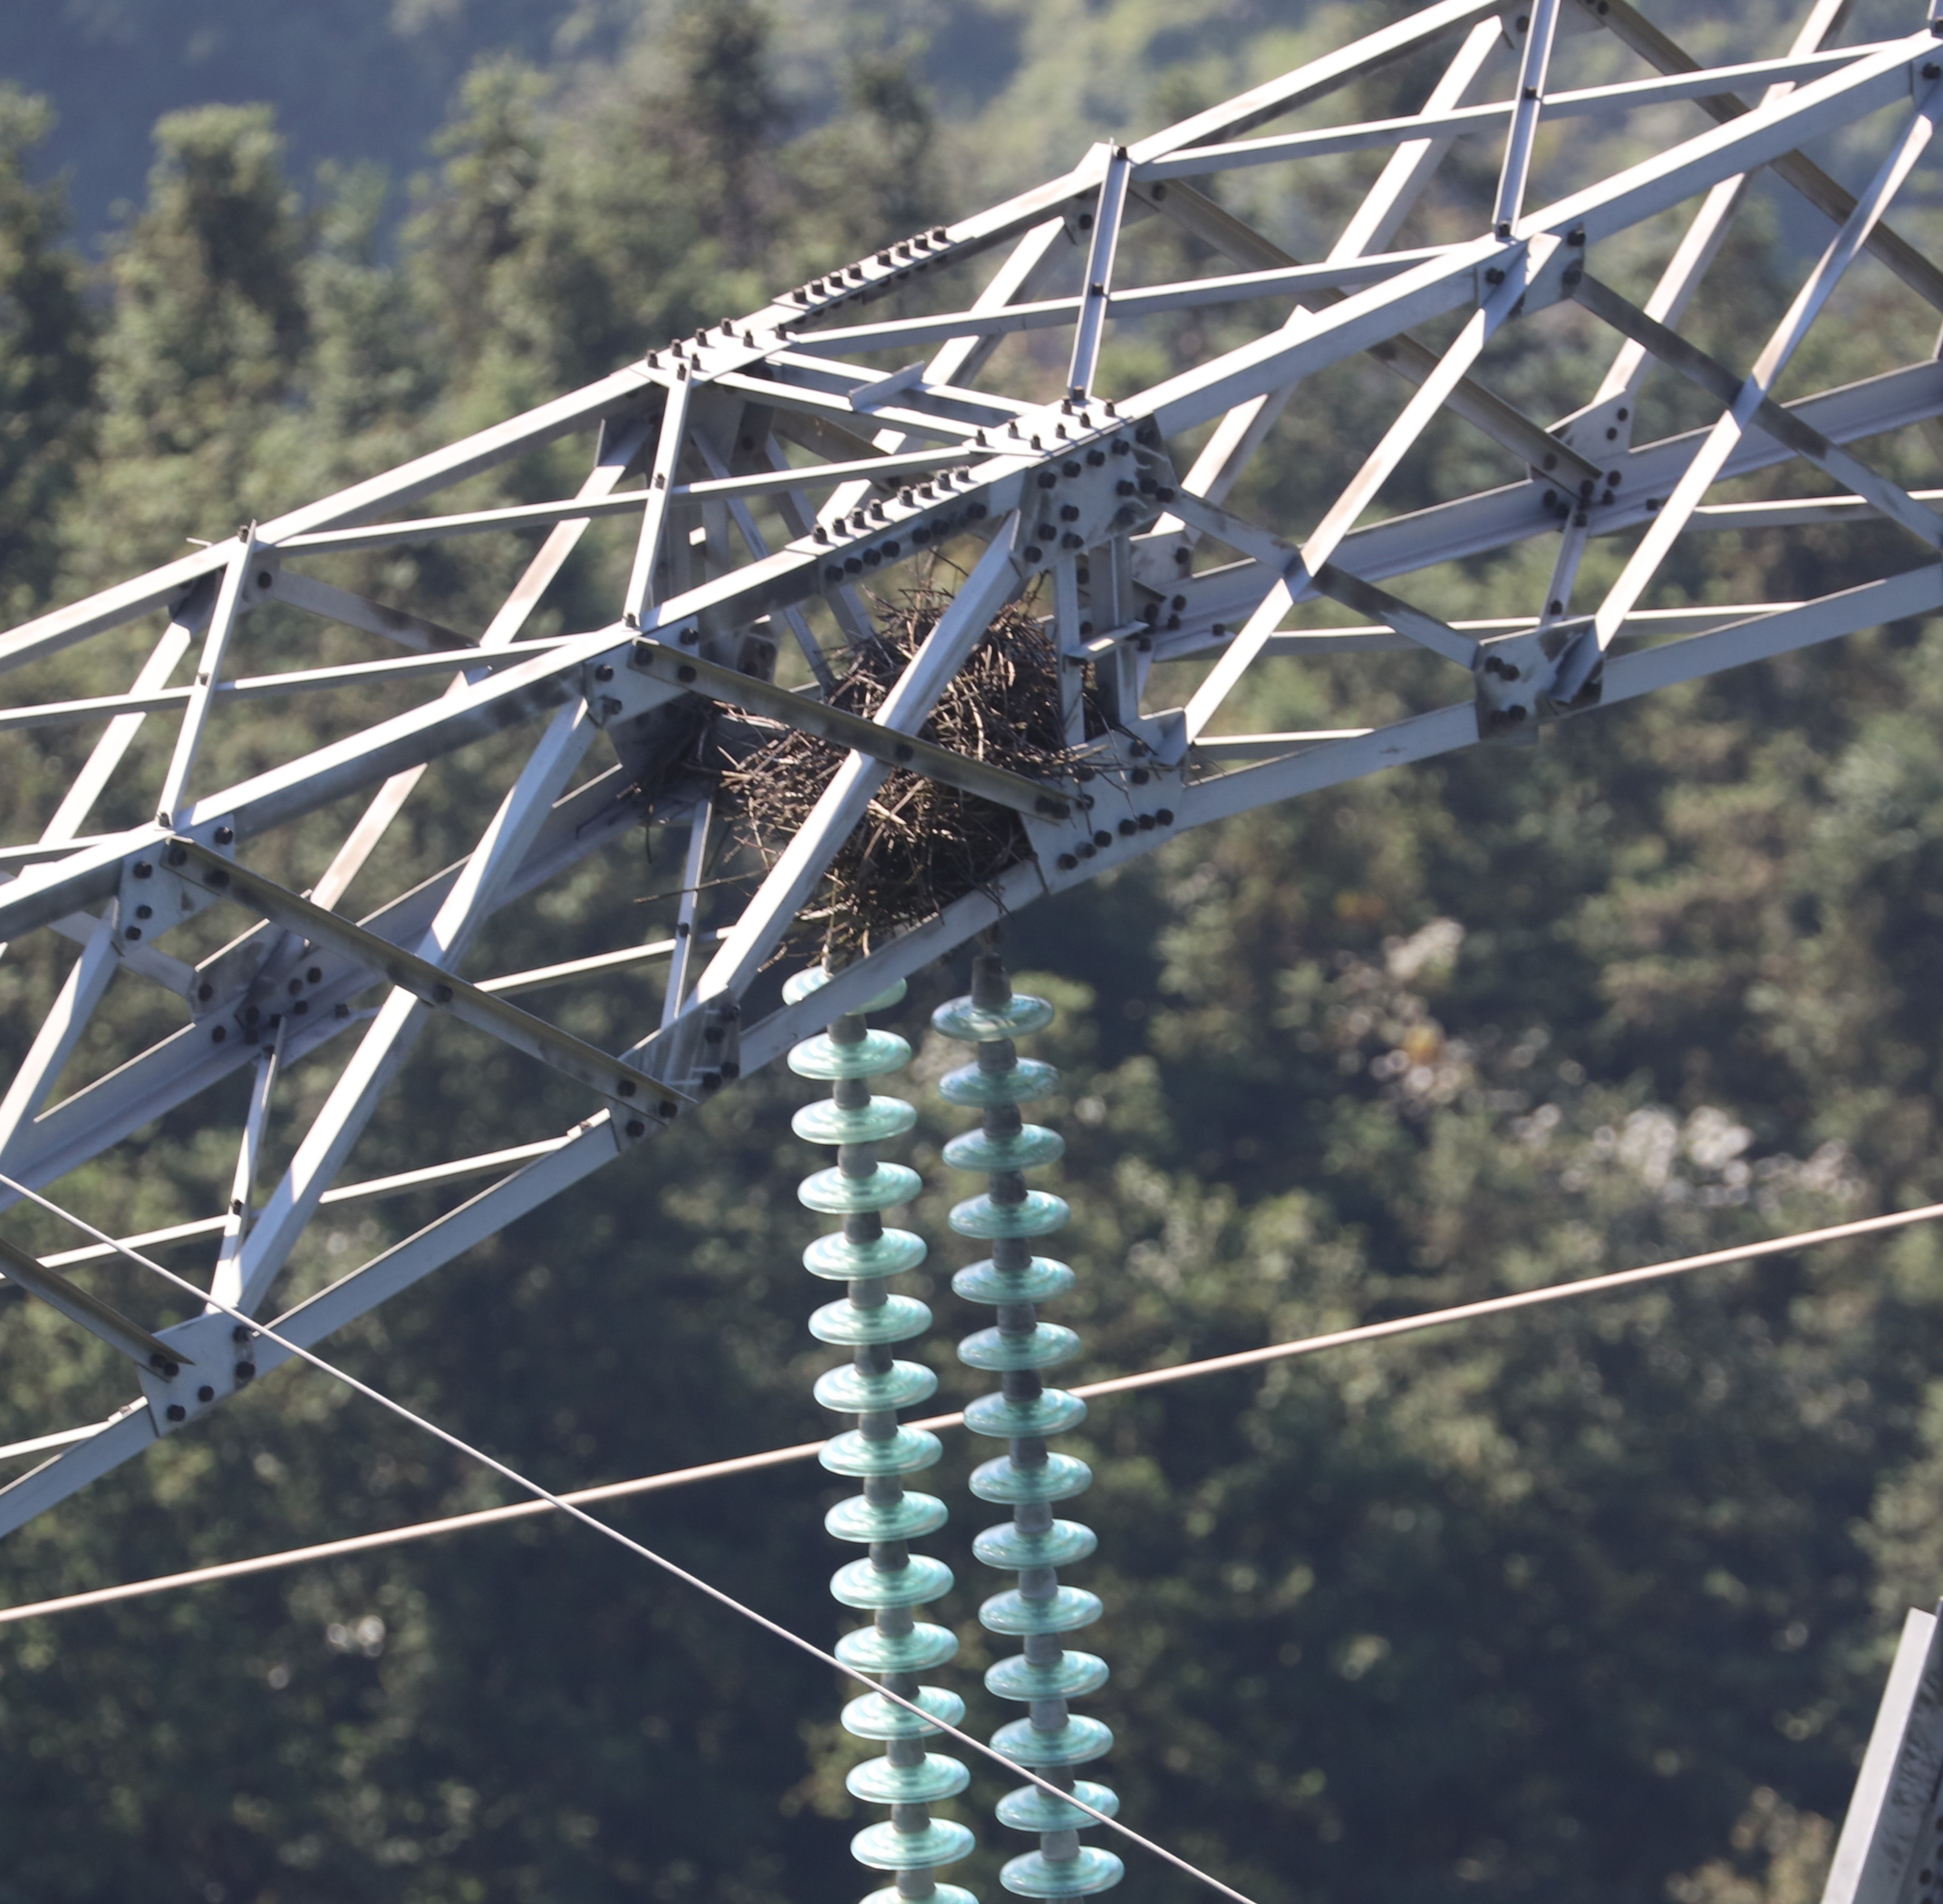niaowo: (685, 568, 1141, 954)
